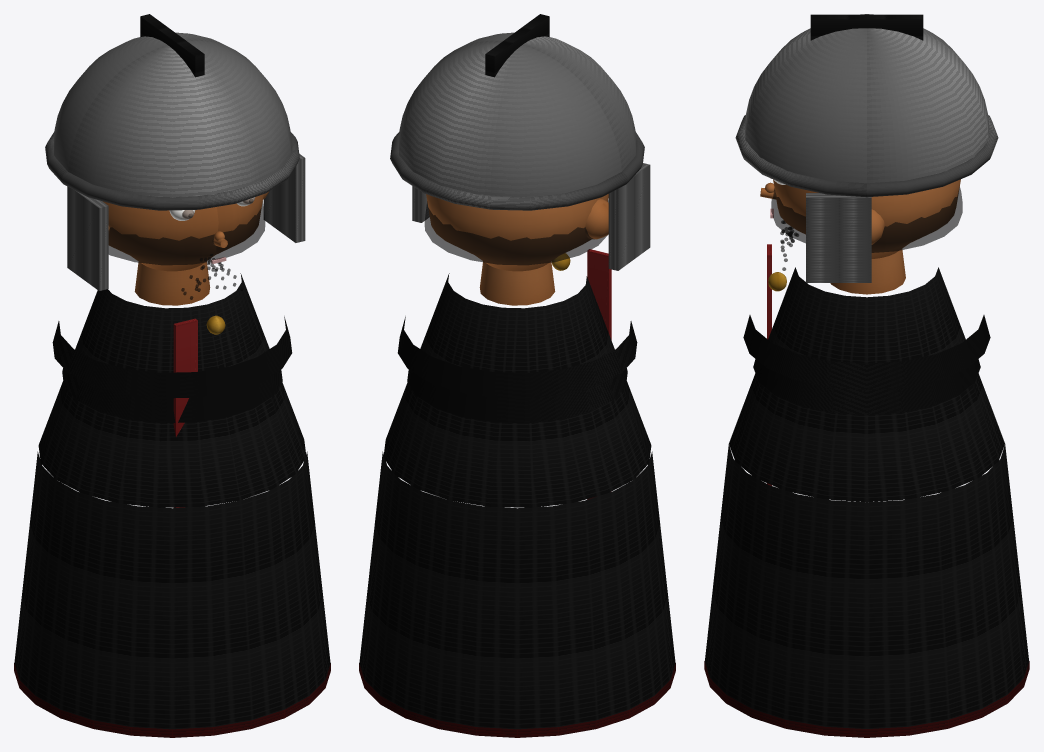
Rendered from sentry_lucas.glb.
3 views of the same model, side by side, from view 1: azimuth 30°, elevation 25°; view 2: azimuth 150°, elevation 25°; view 3: azimuth 270°, elevation 25° (orthographic). The views are drawn at different scales.
Visible parts, largest first — view 1: Character_sentry_lucas_garrison_guard, head; view 2: Character_sentry_lucas_garrison_guard, head; view 3: Character_sentry_lucas_garrison_guard, head.
Part boxes in pixels (bbox=[...]): Character_sentry_lucas_garrison_guard: bbox=[14, 14, 330, 737]; head: bbox=[103, 194, 263, 271]; Character_sentry_lucas_garrison_guard: bbox=[359, 14, 675, 737]; head: bbox=[426, 194, 608, 271]; Character_sentry_lucas_garrison_guard: bbox=[704, 14, 1029, 737]; head: bbox=[773, 179, 960, 258].
Size of the model in its own units: 0.8133 by 1.8 by 0.8133.
Materials: 15 (11 with a texture image).
